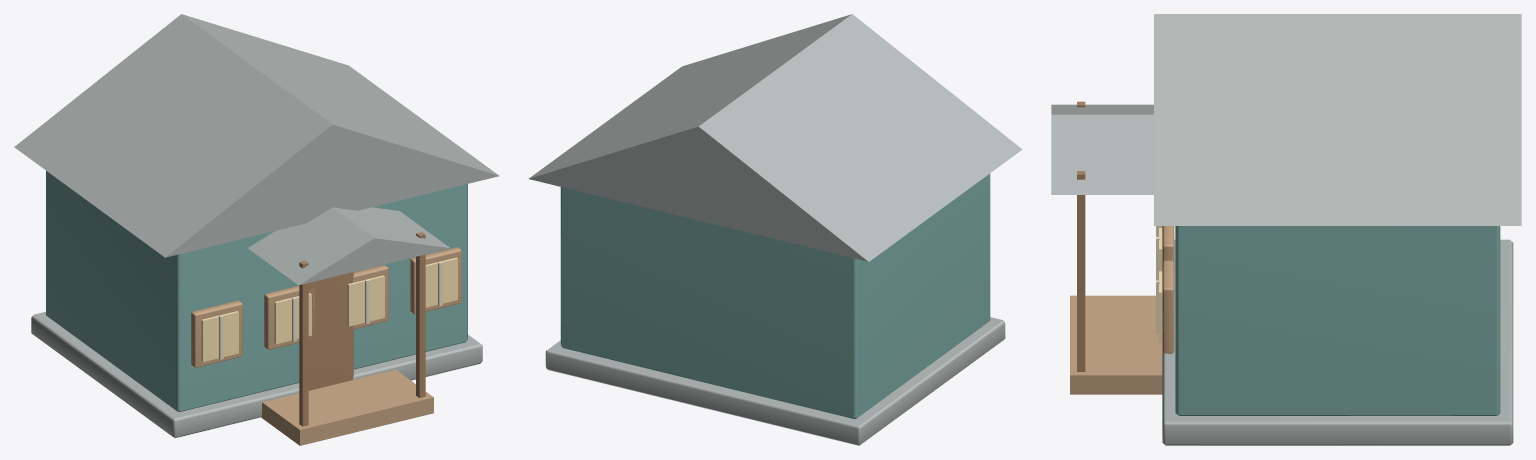
The model's file is fisher-house.glb.
3 views of the same model, side by side, from view 1: azimuth 30°, elevation 25°; view 2: azimuth 150°, elevation 25°; view 3: azimuth 270°, elevation 25° (orthographic). The views are drawn at different scales.
Parts seen in each view (by area): view 1: Fisher house pitched roof, Fisher house walls, Fisher house stone footing, Porch awning, Timber porch, Fisher house front door, Porch post, Porch post.001, Warm pane.002, Warm pane, Window trim, Warm pane.003 (+4 smaller); view 2: Fisher house walls, Fisher house pitched roof, Fisher house stone footing; view 3: Fisher house pitched roof, Fisher house walls, Fisher house stone footing, Porch awning, Timber porch, Porch post.001, Window trim.003, Window trim.002.
Boxes of the visible parts, x1=… form: Fisher house pitched roof: x1=14, y1=14, x2=499, y2=257; Fisher house walls: x1=46, y1=171, x2=467, y2=411; Fisher house stone footing: x1=31, y1=311, x2=482, y2=438; Porch awning: x1=248, y1=207, x2=450, y2=285; Timber porch: x1=261, y1=369, x2=433, y2=445; Fisher house front door: x1=308, y1=272, x2=353, y2=390; Porch post: x1=299, y1=260, x2=308, y2=426; Porch post.001: x1=416, y1=232, x2=425, y2=397; Warm pane.002: x1=347, y1=275, x2=384, y2=326; Warm pane: x1=201, y1=311, x2=238, y2=361; Window trim: x1=191, y1=300, x2=242, y2=367; Warm pane.003: x1=425, y1=257, x2=457, y2=307; Fisher house walls: x1=560, y1=173, x2=990, y2=418; Fisher house pitched roof: x1=528, y1=14, x2=1022, y2=261; Fisher house stone footing: x1=545, y1=317, x2=1005, y2=445; Fisher house pitched roof: x1=1154, y1=14, x2=1521, y2=225; Fisher house walls: x1=1175, y1=226, x2=1500, y2=415; Fisher house stone footing: x1=1162, y1=239, x2=1513, y2=445; Porch awning: x1=1051, y1=104, x2=1153, y2=194; Timber porch: x1=1070, y1=295, x2=1162, y2=394; Porch post.001: x1=1077, y1=171, x2=1085, y2=371; Window trim.003: x1=1162, y1=260, x2=1174, y2=353; Window trim.002: x1=1162, y1=226, x2=1174, y2=262.
Size of the model in its own units: 5.5 by 4.4 by 5.5.
